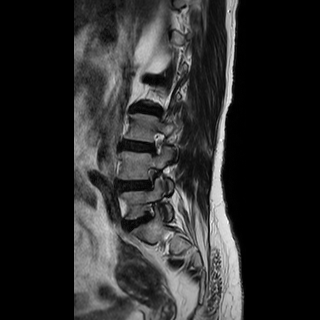RFS0: (144, 127, 168, 162)
RFS3: (139, 162, 164, 195)
